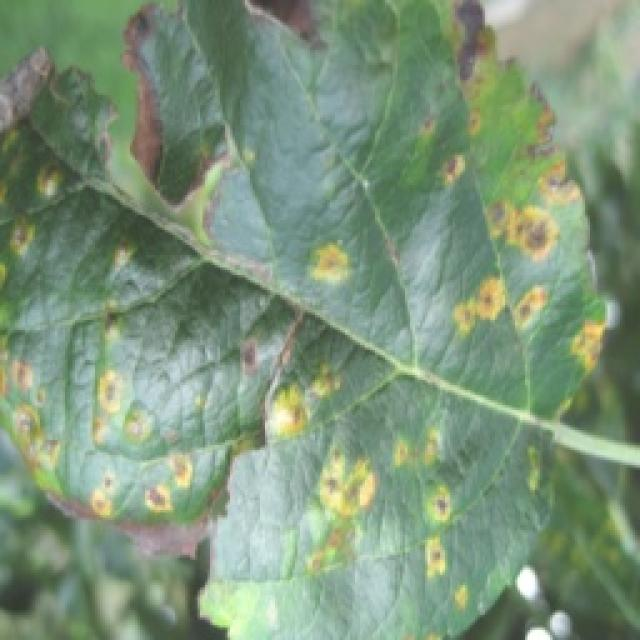Gymnosporangium_Rusts: (0, 0, 610, 638)
